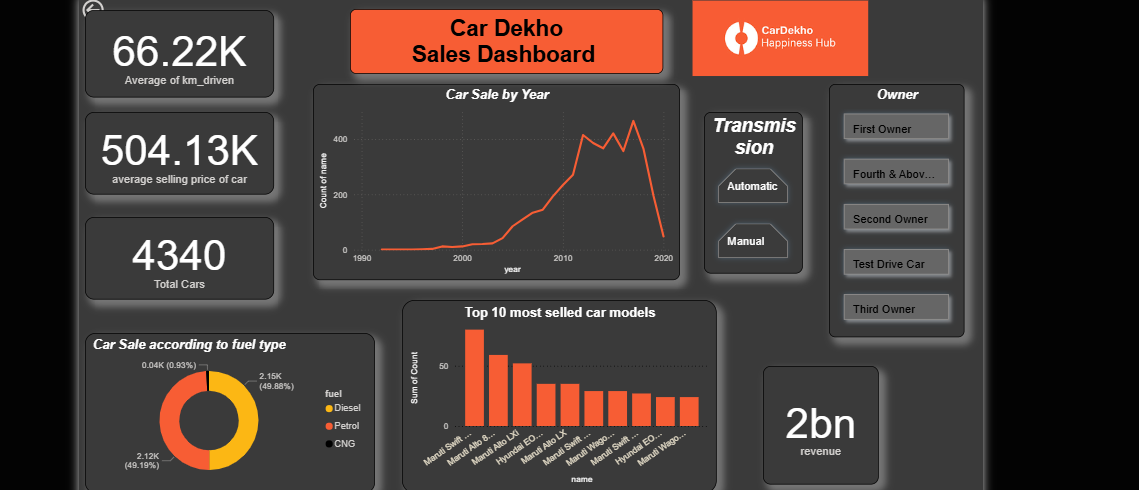

The dashboard page shown, as its layout file describes it:
{"tool":"powerbi","page":{"name":"Page 1","canvas":[1280,720],"ordinal":0},"visuals":[{"type":"columnChart","title":"Top 10 most selled car models","fields":{"Category":["TopCars.name"],"Y":["TopCars.Count"]},"box":[457.9,430.6,446.4,273.6],"z":0},{"type":"card","fields":{"Values":["cardekho.average selling price of car"]},"box":[8.6,164.2,267.8,116.6],"z":1000},{"type":"donutChart","title":"Car Sale according to fuel type","fields":{"Y":["cardekho.fuel"],"Category":["cardekho.fuel"]},"box":[8.6,477.1,411.4,227.1],"z":2000},{"type":"card","fields":{"Values":["cardekho.name"]},"box":[8.6,313.9,267.8,116.6],"z":3000},{"type":"actionButton","box":[0,0,100,40],"z":4000},{"type":"advancedSlicerVisual","title":"Transmission","fields":{"Values":["cardekho.transmission"]},"box":[885.6,164.2,139.7,229],"z":5000},{"type":"lineChart","title":"Car Sale by Year","fields":{"Category":["cardekho.year"],"Y":["cardekho.name"]},"box":[331.2,125.3,519.8,277.9],"z":6000},{"type":"advancedSlicerVisual","title":"Owner ","fields":{"Values":["cardekho.owner"]},"box":[1062.7,125.3,191.5,358.6],"z":7000},{"type":"textbox","box":[384.5,18.7,443.5,92.2],"z":8000},{"type":"image","box":[864,1.4,259.2,116.6],"z":9000},{"type":"card","fields":{"Values":["cardekho.km_driven"]},"box":[8.6,20.2,267.8,123.8],"z":10000},{"type":"card","fields":{"Values":["cardekho.revenue"]},"box":[969.1,524.2,164.2,168.5],"z":11000}]}

Visuals, with their boxes on the page's 1280x720 design canvas (x1, y1, x2, y2). These are canvas units, not pixel positions in the 1139x490 screenshot, which may show the page scaled, cropped or inside an application window:
"Top 10 most selled car models" columnChart: Rect(458, 431, 904, 704)
card - cardekho.average selling price of car: Rect(9, 164, 276, 281)
"Car Sale according to fuel type" donutChart: Rect(9, 477, 420, 704)
card - cardekho.name: Rect(9, 314, 276, 430)
actionButton: Rect(0, 0, 100, 40)
"Transmission" advancedSlicerVisual: Rect(886, 164, 1025, 393)
"Car Sale by Year" lineChart: Rect(331, 125, 851, 403)
"Owner " advancedSlicerVisual: Rect(1063, 125, 1254, 484)
textbox: Rect(384, 19, 828, 111)
image: Rect(864, 1, 1123, 118)
card - cardekho.km_driven: Rect(9, 20, 276, 144)
card - cardekho.revenue: Rect(969, 524, 1133, 693)
